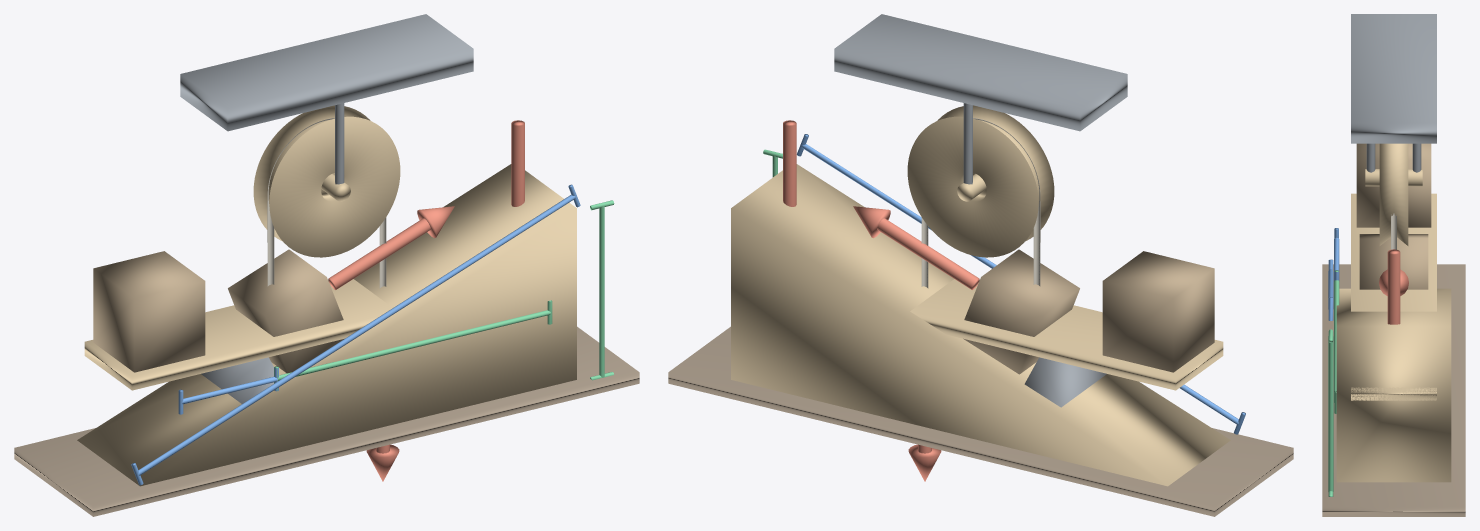
File: simple_machines.glb
3 renders of one model, left to right at view 1: azimuth 30°, elevation 25°; view 2: azimuth 150°, elevation 25°; view 3: azimuth 270°, elevation 25°, orthographic. The views are drawn at different scales.
Visible parts, largest first — view 1: ramp_plane, pulley_beam, lever_ground, pulley_wheel, lever_load, lever_plank, ramp_load, ramp_length, ramp_effort, lever_effort_arm, lever_fulcrum, ramp_height (+3 smaller); view 2: ramp_plane, pulley_beam, lever_ground, pulley_wheel, lever_load, lever_plank, ramp_load, ramp_effort, lever_fulcrum, ramp_length, lever_effort, pulley_rope; view 3: ramp_plane, pulley_beam, lever_ground, lever_plank, pulley_wheel, lever_load, ramp_load, lever_effort, ramp_height, lever_effort_arm, ramp_effort, ramp_length (+2 smaller).
Part boxes in pixels (bbox=[...]): ramp_plane: bbox=[77, 164, 576, 486]; pulley_beam: bbox=[180, 14, 473, 184]; lever_ground: bbox=[14, 326, 639, 516]; pulley_wheel: bbox=[253, 105, 400, 257]; lever_load: bbox=[93, 251, 205, 372]; lever_plank: bbox=[84, 279, 392, 390]; ramp_load: bbox=[228, 249, 343, 373]; ramp_length: bbox=[131, 184, 580, 485]; ramp_effort: bbox=[328, 206, 454, 289]; lever_effort_arm: bbox=[274, 300, 552, 390]; lever_fulcrum: bbox=[201, 357, 273, 403]; ramp_height: bbox=[590, 200, 614, 380]; ramp_plane: bbox=[731, 164, 1230, 486]; pulley_beam: bbox=[834, 14, 1127, 184]; lever_ground: bbox=[668, 326, 1293, 516]; pulley_wheel: bbox=[907, 105, 1054, 257]; lever_load: bbox=[1102, 251, 1214, 372]; lever_plank: bbox=[910, 279, 1223, 390]; ramp_load: bbox=[963, 249, 1079, 374]; ramp_effort: bbox=[853, 206, 979, 289]; lever_fulcrum: bbox=[1024, 357, 1106, 407]; ramp_length: bbox=[797, 134, 1245, 434]; lever_effort: bbox=[783, 120, 796, 206]; pulley_rope: bbox=[921, 118, 1040, 288]; ramp_plane: bbox=[1336, 288, 1451, 482]; pulley_beam: bbox=[1351, 14, 1436, 172]; lever_ground: bbox=[1322, 264, 1465, 516]; lever_plank: bbox=[1351, 193, 1436, 400]; pulley_wheel: bbox=[1365, 143, 1422, 245]; lever_load: bbox=[1356, 143, 1431, 227]; ramp_load: bbox=[1359, 234, 1428, 289]; lever_effort: bbox=[1387, 249, 1400, 324]; ramp_height: bbox=[1328, 329, 1333, 496]; lever_effort_arm: bbox=[1334, 270, 1339, 413]; ramp_effort: bbox=[1379, 269, 1408, 295]; ramp_length: bbox=[1328, 259, 1333, 320].
Size of the model in its own units: 0.2 by 0.152 by 0.05.
